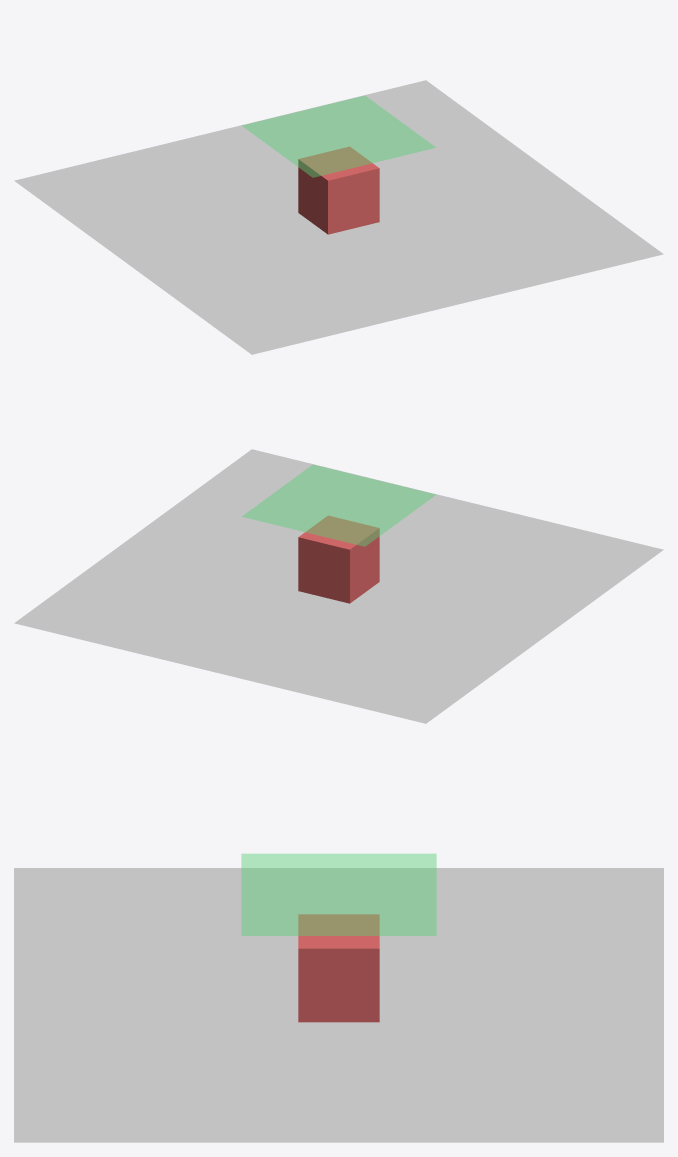
Rendered from cube_alpha.gltf.
The picture shows the model from 3 angles, top to bottom: view 1: azimuth 30°, elevation 25°; view 2: azimuth 150°, elevation 25°; view 3: azimuth 270°, elevation 25°; orthographic projection. The views are drawn at different scales.
Parts seen in each view (by area): view 1: plane, blend_quad, cube; view 2: plane, blend_quad, cube; view 3: plane, blend_quad, cube.
Part boxes in pixels (x1,y1,x2,y2): plane: (14,80,663,354); blend_quad: (242,95,435,177); cube: (298,146,379,234); plane: (14,449,663,723); blend_quad: (242,465,435,546); cube: (298,515,379,603); plane: (14,868,663,1142); blend_quad: (241,853,436,935); cube: (298,914,379,1022).
Bounding box in the file's own units: 8 × 2.5 × 8.
